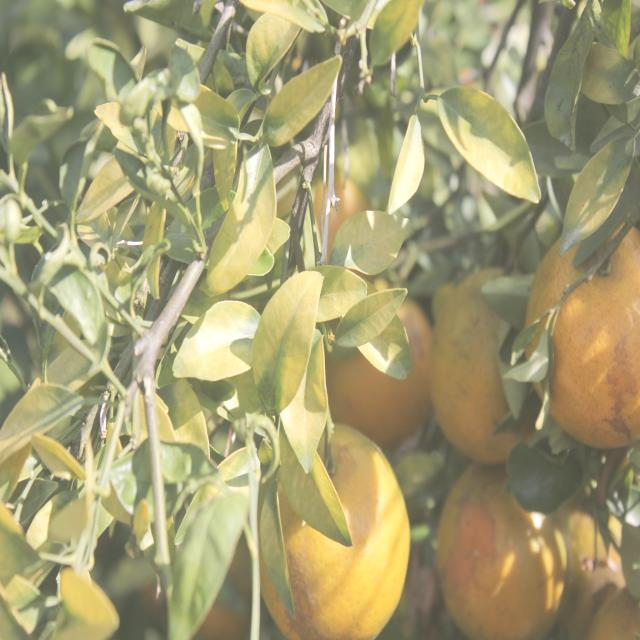greening: (255, 268, 322, 407), (443, 84, 526, 184), (216, 147, 278, 269), (175, 298, 257, 385), (279, 445, 348, 536), (270, 57, 346, 139)
